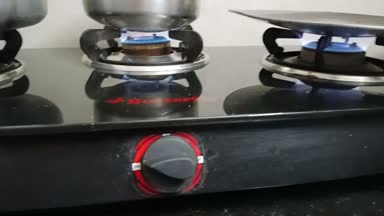flame_gas_on: (102, 25, 201, 194), (281, 27, 379, 76)
